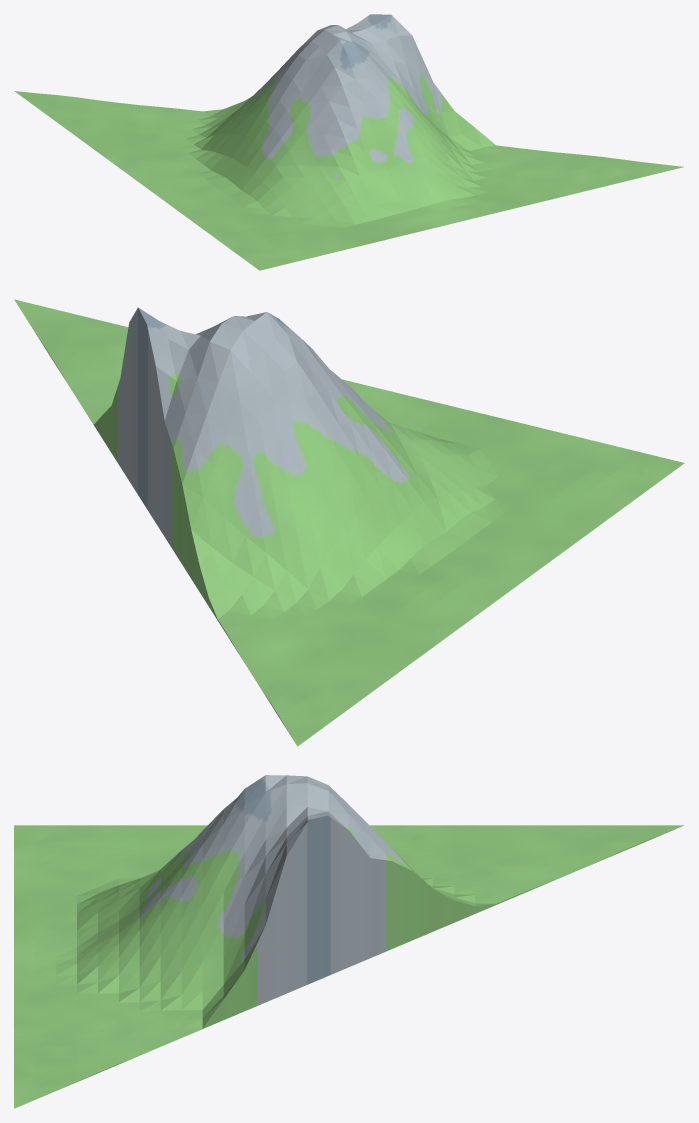
File: Grass_RockyMountains_11_NW.obj
The picture shows the model from 3 angles, top to bottom: view 1: azimuth 30°, elevation 25°; view 2: azimuth 150°, elevation 25°; view 3: azimuth 270°, elevation 25°; orthographic projection. The views are drawn at different scales.
Bounding box in the file's own units: 10 × 2.73 × 10.
1 material, 1 textured.
